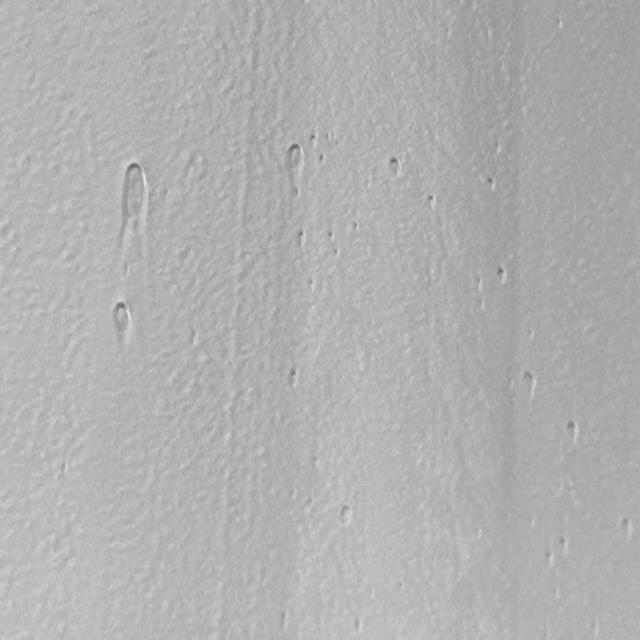pin holes: (114, 160, 156, 228), (278, 141, 304, 189), (110, 300, 138, 344), (520, 369, 540, 400), (564, 419, 584, 446), (336, 503, 356, 526), (618, 517, 636, 542), (388, 156, 406, 180), (284, 366, 302, 390), (544, 545, 558, 572), (495, 266, 511, 286), (556, 536, 570, 557), (427, 192, 440, 212), (483, 176, 498, 193), (350, 617, 364, 635), (297, 227, 308, 249), (472, 275, 485, 292), (307, 132, 318, 149), (316, 152, 326, 168), (351, 219, 360, 234), (308, 276, 314, 294), (326, 230, 334, 243), (333, 248, 341, 260)
